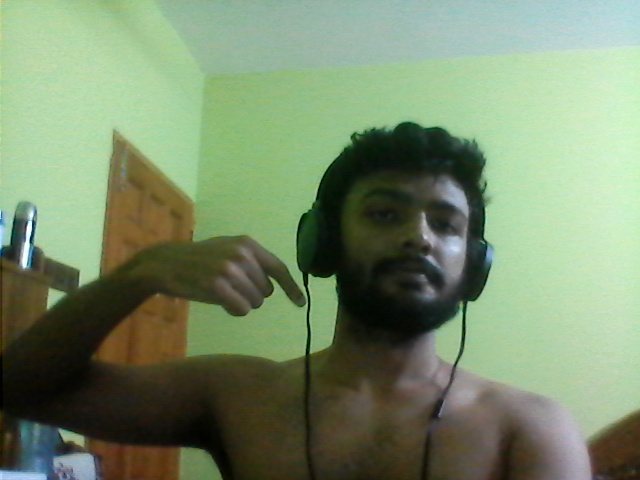I: (158, 207, 309, 350)
